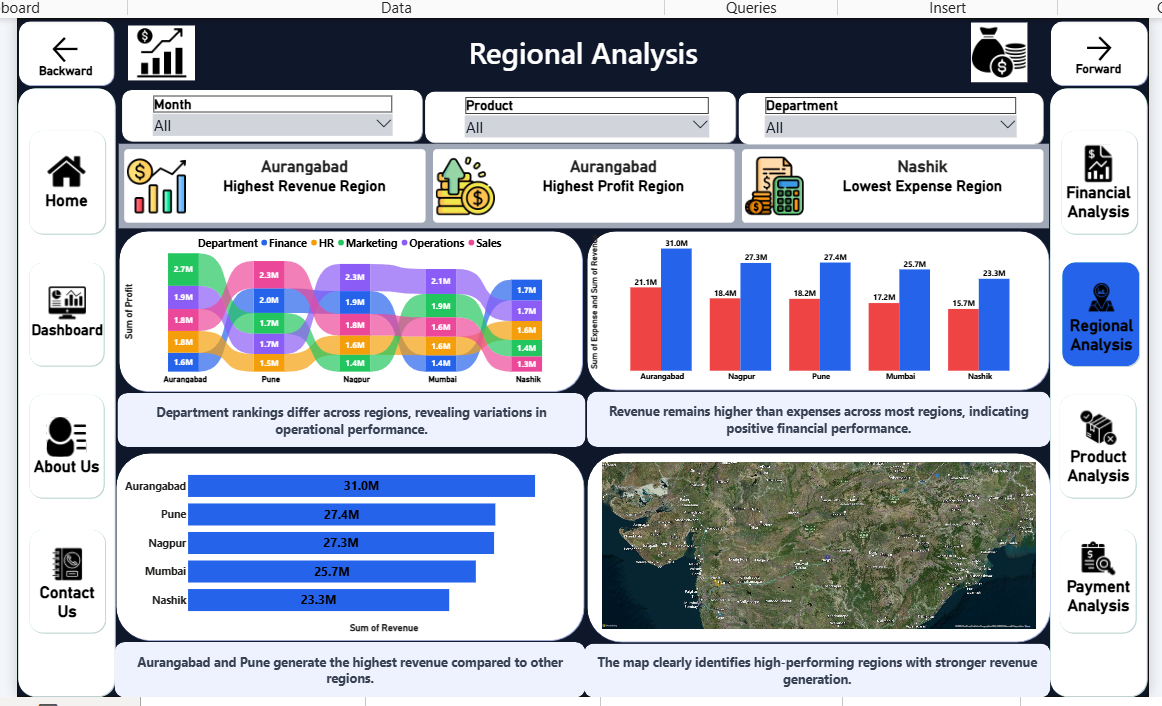

Layout of this report page (visuals, bound fields, positions):
{"tool":"powerbi","page":{"name":"Regional Analysis Page","canvas":[5000,3000],"ordinal":3},"visuals":[{"type":"shape","box":[437.4,6.6,4122.3,298.2],"z":0},{"type":"shape","box":[0,304.9,437.4,2697.4],"z":1000},{"type":"shape","box":[4559.8,304.9,437.4,2697.4],"z":2000},{"type":"shape","box":[0,6,435.4,298.2],"z":3000},{"type":"shape","box":[4557.1,6,441.4,298.2],"z":4000},{"type":"shape","box":[430.8,2757.1,2081,245.2],"z":5000},{"type":"image","box":[490.9,35.5,295.7,242.5],"z":6000},{"type":"cardVisual","fields":{"Data":["Finance.Highest Revenue Region","Finance.Highest Profit Region","Finance.Lowest Expense Region"]},"box":[444,550.1,4122.3,384.4],"z":7000},{"type":"shape","box":[444,1656.9,2067.8,238.6],"z":8000},{"type":"shape","box":[430.8,1915.4,2081,841.7],"z":9000},{"type":"shape","box":[444,934.5,2061.2,722.4],"z":10000},{"type":"shape","box":[2511.8,934.5,2054.5,715.8],"z":11000},{"type":"ribbonChart","fields":{"Category":["Finance.Region"],"Series":["Finance.Department"],"Y":["Sum(Finance.Profit)"]},"box":[457.3,954.4,2034.7,662.8],"z":12000},{"type":"shape","box":[2511.8,1915.4,2061.2,848.3],"z":13000},{"type":"shape","box":[2505.2,2763.7,2061.2,238.6],"z":14000},{"type":"filledMap","fields":{"Category":["Finance.Region"],"Series":["Finance.Revenue"]},"box":[2578.1,1955.1,1928.6,748.9],"z":15000},{"type":"shape","box":[2518.5,1650.3,2047.9,245.2],"z":16000},{"type":"clusteredBarChart","fields":{"Category":["Finance.Region"],"Y":["Sum(Finance.Revenue)"]},"box":[470.6,1955.1,2021.4,768.8],"z":17000},{"type":"clusteredColumnChart","fields":{"Category":["Finance.Region"],"Y":["Sum(Finance.Expense)","Sum(Finance.Revenue)"]},"box":[2518.5,934.5,2021.4,682.6],"z":18000},{"type":"shape","box":[457.3,311.5,1338.8,238.6],"z":19000},{"type":"shape","box":[1796.1,318.1,1385.2,238.6],"z":20000},{"type":"shape","box":[3181.2,324.7,1358.6,238.6],"z":21000},{"type":"slicer","fields":{"Values":["Finance_dataset.Date.Variation.Date Hierarchy.Month"]},"box":[589.9,338,1080.3,225.3],"z":22000},{"type":"slicer","fields":{"Values":["Finance_dataset.Department"]},"box":[3293.9,344.6,1133.3,232],"z":23000},{"type":"image","box":[4212.4,22,249.5,264.2],"z":24000},{"type":"textbox","box":[1696.7,59.6,1610.5,198.8],"z":25000},{"type":"slicer","fields":{"Values":["Finance_dataset.Product"]},"box":[1968.4,344.6,1100.2,218.7],"z":26000},{"type":"actionButton","box":[33.1,19.9,364.5,245.2],"z":27000},{"type":"actionButton","box":[4606.1,19.9,344.6,238.6],"z":28000},{"type":"shape","box":[46.4,1073.7,344.6,470.6],"z":29000},{"type":"shape","box":[46.4,490.4,351.3,470.6],"z":30000},{"type":"actionButton","box":[46.4,483.8,344.6,470.6],"z":31000},{"type":"shape","box":[46.4,2253.4,351.3,470.6],"z":32000},{"type":"shape","box":[46.4,1656.9,344.6,470.6],"z":33000},{"type":"actionButton","box":[53,1060.4,338,470.6],"z":34000},{"type":"actionButton","box":[39.8,1656.9,357.9,470.6],"z":35000},{"type":"actionButton","box":[53,2260,338,470.6],"z":36000},{"type":"shape","box":[4606.1,490.4,351.3,470.6],"z":37000},{"type":"shape","box":[4612.8,1073.7,351.3,470.6],"z":38000},{"type":"shape","box":[4599.5,1656.9,351.3,470.6],"z":39000},{"type":"shape","box":[4599.5,2253.4,351.3,470.6],"z":40000},{"type":"actionButton","box":[4606.1,490.4,344.6,470.6],"z":41000},{"type":"actionButton","box":[4619.4,1080.3,344.6,470.6],"z":42000},{"type":"actionButton","box":[4606.1,1656.9,344.6,470.6],"z":43000},{"type":"actionButton","box":[4606.1,2233.5,344.6,470.6],"z":44000}]}

Visuals, with their boxes on the page's 5000x3000 design canvas (x1, y1, x2, y2). These are canvas units, not pixel positions in the 1162x706 screenshot, which may show the page scaled, cropped or inside an application window:
shape: <bbox>437, 7, 4560, 305</bbox>
shape: <bbox>0, 305, 437, 3002</bbox>
shape: <bbox>4560, 305, 4997, 3002</bbox>
shape: <bbox>0, 6, 435, 304</bbox>
shape: <bbox>4557, 6, 4998, 304</bbox>
shape: <bbox>431, 2757, 2512, 3002</bbox>
image: <bbox>491, 36, 787, 278</bbox>
cardVisual - Finance.Highest Revenue Region x Finance.Highest Profit Region: <bbox>444, 550, 4566, 934</bbox>
shape: <bbox>444, 1657, 2512, 1896</bbox>
shape: <bbox>431, 1915, 2512, 2757</bbox>
shape: <bbox>444, 934, 2505, 1657</bbox>
shape: <bbox>2512, 934, 4566, 1650</bbox>
ribbonChart - Finance.Region x Finance.Department: <bbox>457, 954, 2492, 1617</bbox>
shape: <bbox>2512, 1915, 4573, 2764</bbox>
shape: <bbox>2505, 2764, 4566, 3002</bbox>
filledMap - Finance.Region x Finance.Revenue: <bbox>2578, 1955, 4507, 2704</bbox>
shape: <bbox>2518, 1650, 4566, 1896</bbox>
clusteredBarChart - Finance.Region x Sum(Finance.Revenue): <bbox>471, 1955, 2492, 2724</bbox>
clusteredColumnChart - Finance.Region x Sum(Finance.Expense): <bbox>2518, 934, 4540, 1617</bbox>
shape: <bbox>457, 312, 1796, 550</bbox>
shape: <bbox>1796, 318, 3181, 557</bbox>
shape: <bbox>3181, 325, 4540, 563</bbox>
slicer - Finance_dataset.Date.Variation.Date Hierarchy.Month: <bbox>590, 338, 1670, 563</bbox>
slicer - Finance_dataset.Department: <bbox>3294, 345, 4427, 577</bbox>
image: <bbox>4212, 22, 4462, 286</bbox>
textbox: <bbox>1697, 60, 3307, 258</bbox>
slicer - Finance_dataset.Product: <bbox>1968, 345, 3069, 563</bbox>
actionButton: <bbox>33, 20, 398, 265</bbox>
actionButton: <bbox>4606, 20, 4951, 258</bbox>
shape: <bbox>46, 1074, 391, 1544</bbox>
shape: <bbox>46, 490, 398, 961</bbox>
actionButton: <bbox>46, 484, 391, 954</bbox>
shape: <bbox>46, 2253, 398, 2724</bbox>
shape: <bbox>46, 1657, 391, 2128</bbox>
actionButton: <bbox>53, 1060, 391, 1531</bbox>
actionButton: <bbox>40, 1657, 398, 2128</bbox>
actionButton: <bbox>53, 2260, 391, 2731</bbox>
shape: <bbox>4606, 490, 4957, 961</bbox>
shape: <bbox>4613, 1074, 4964, 1544</bbox>
shape: <bbox>4600, 1657, 4951, 2128</bbox>
shape: <bbox>4600, 2253, 4951, 2724</bbox>
actionButton: <bbox>4606, 490, 4951, 961</bbox>
actionButton: <bbox>4619, 1080, 4964, 1551</bbox>
actionButton: <bbox>4606, 1657, 4951, 2128</bbox>
actionButton: <bbox>4606, 2234, 4951, 2704</bbox>
